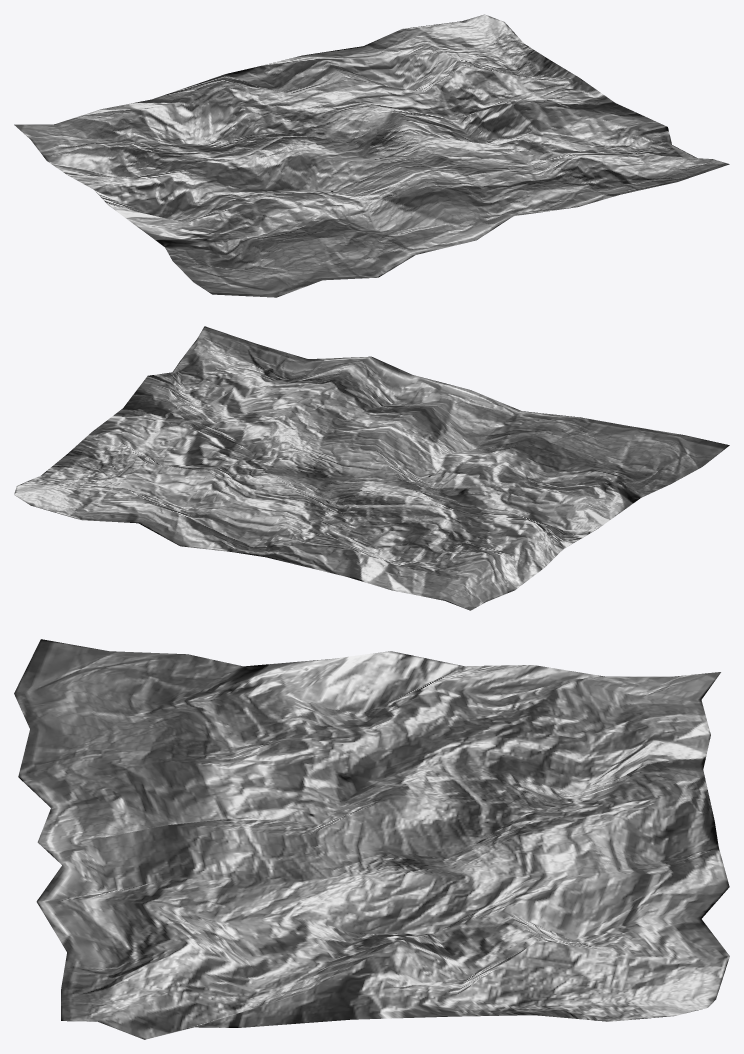
File: burger_foil.fbx
3 renders of one model, top to bottom at view 1: azimuth 30°, elevation 25°; view 2: azimuth 150°, elevation 25°; view 3: azimuth 270°, elevation 25°, orthographic. The views are drawn at different scales.
Visible parts, largest first — view 1: burger_foil; view 2: burger_foil; view 3: burger_foil.
Boxes of the visible parts, <box> form: burger_foil: <box>14,14,729,297</box>; burger_foil: <box>14,326,729,610</box>; burger_foil: <box>14,639,729,1039</box>.
Size of the model in its own units: 59.05 by 2.87 by 47.26.
